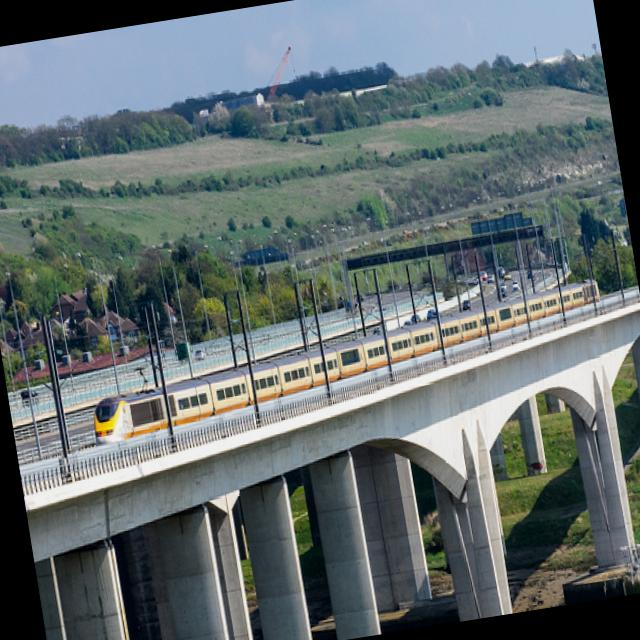Vehicle: (500, 280, 510, 298), (426, 308, 438, 322), (510, 280, 520, 292), (461, 300, 471, 312), (498, 265, 507, 278), (410, 315, 420, 324), (486, 274, 494, 284), (480, 270, 488, 280), (503, 273, 512, 281), (526, 268, 530, 279)
